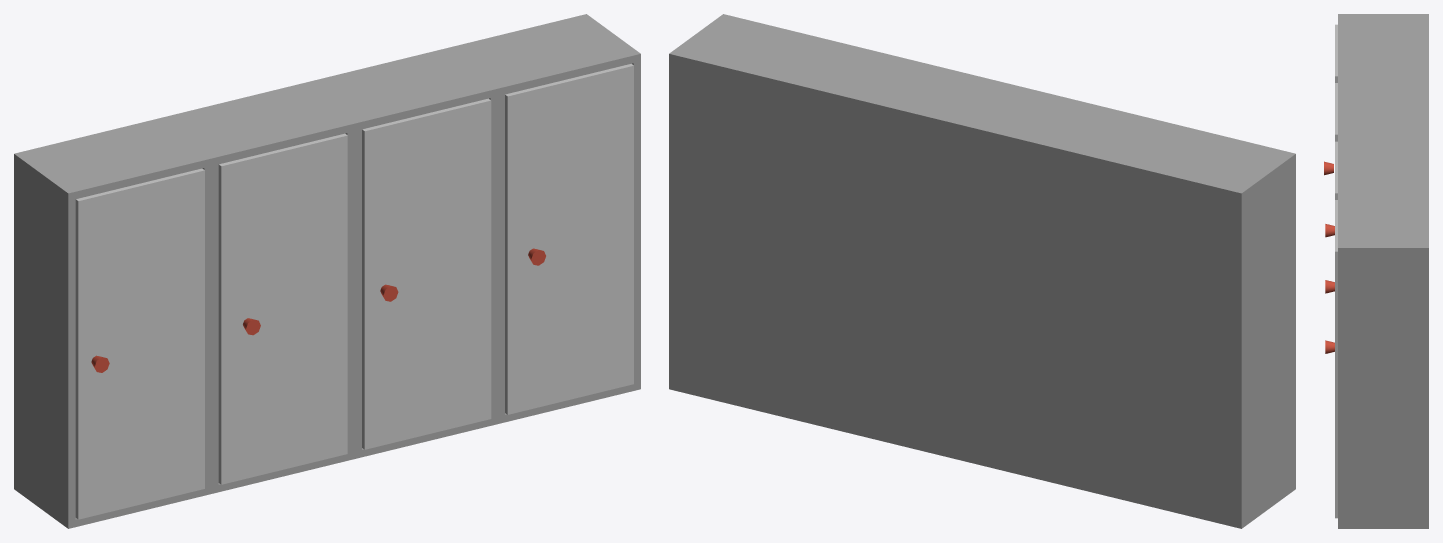
File: SM_Locker_03.fbx
The picture shows the model from 3 angles, left to right: view 1: azimuth 30°, elevation 25°; view 2: azimuth 150°, elevation 25°; view 3: azimuth 270°, elevation 25°; orthographic projection. The views are drawn at different scales.
Parts seen in each view (by area): view 1: SM_Locker_03; view 2: SM_Locker_03; view 3: SM_Locker_03.
Part boxes in pixels (box(x1,y1,x2,y2)): SM_Locker_03: box(14, 14, 640, 528); SM_Locker_03: box(669, 14, 1295, 528); SM_Locker_03: box(1324, 14, 1428, 528).
Size of the model in its own units: 186 by 104 by 35.23.
1 material, 1 textured.
